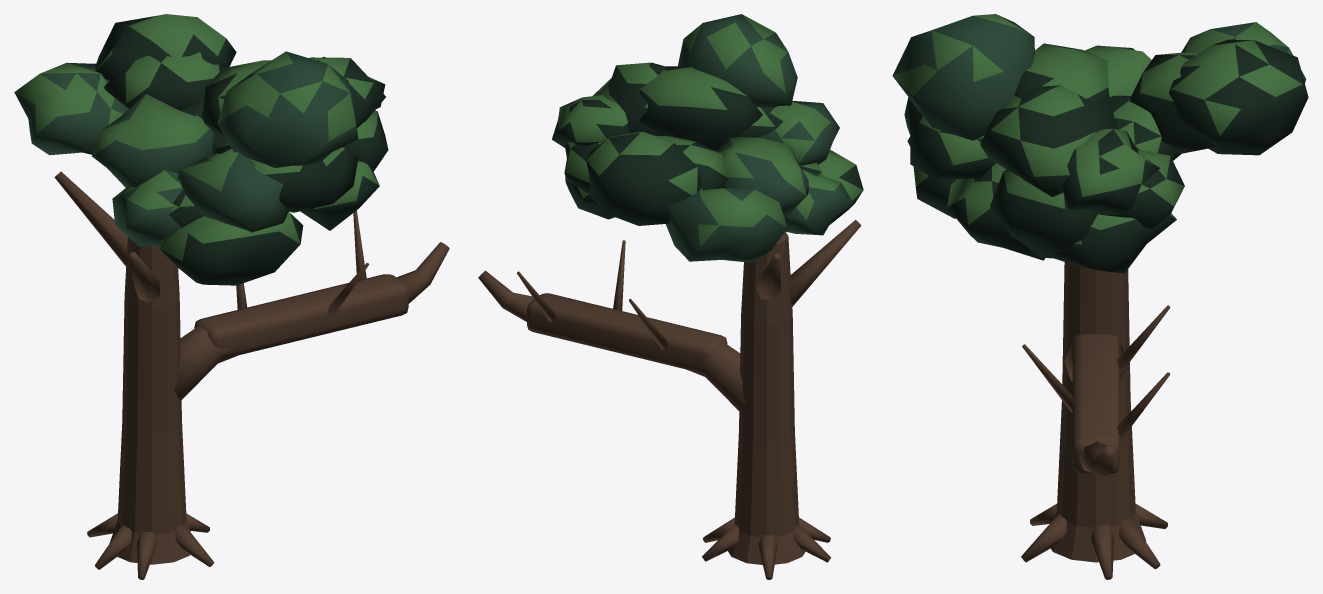
File: broad_oak_bough.glb
The picture shows the model from 3 angles, left to right: view 1: azimuth 30°, elevation 25°; view 2: azimuth 150°, elevation 25°; view 3: azimuth 270°, elevation 25°; orthographic projection. The views are drawn at different scales.
Parts seen in each view (by area): view 1: broad_oak_bough; view 2: broad_oak_bough; view 3: broad_oak_bough.
Boxes of the visible parts, box(x1,y1,x2,y2) form: broad_oak_bough: box(14, 14, 449, 579); broad_oak_bough: box(478, 14, 863, 579); broad_oak_bough: box(892, 14, 1308, 579).
Bounding box in the file's own units: 3.73 × 4.85 × 3.16.
